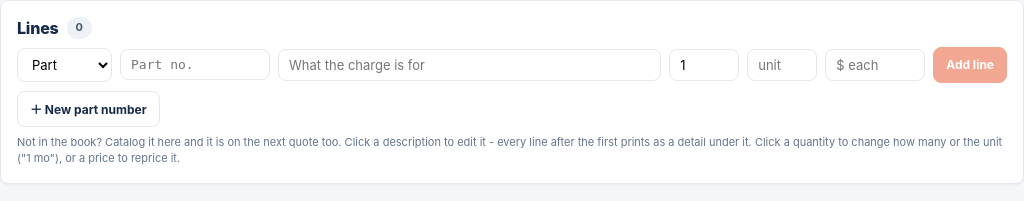
Test: finding a part while building a quote › fills the number, the name and the SELL price on one pick
The image size is (1024, 201).
Type "G6303" into the field named "Part number". click: (195, 65)
box: [120,49,270,80]
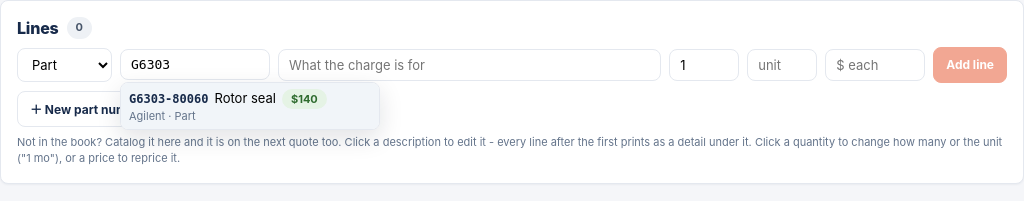
Click the option "G6303-80060 Rotor seal $140 Agilent · Part". click: (250, 106)
box: [121,83,379,129]
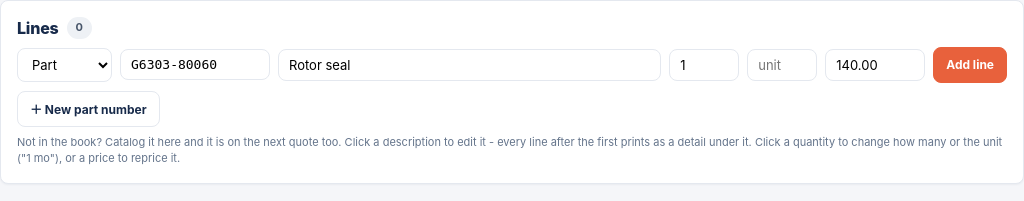
Now the field named "Part number" holds "G6303-80060", box [120,49,270,80]
Now the field named "Line description" holds "Rotor seal", box [278,49,661,81]
Now the field named "Unit price in dollars" holds "140.00", box [825,49,925,81]
